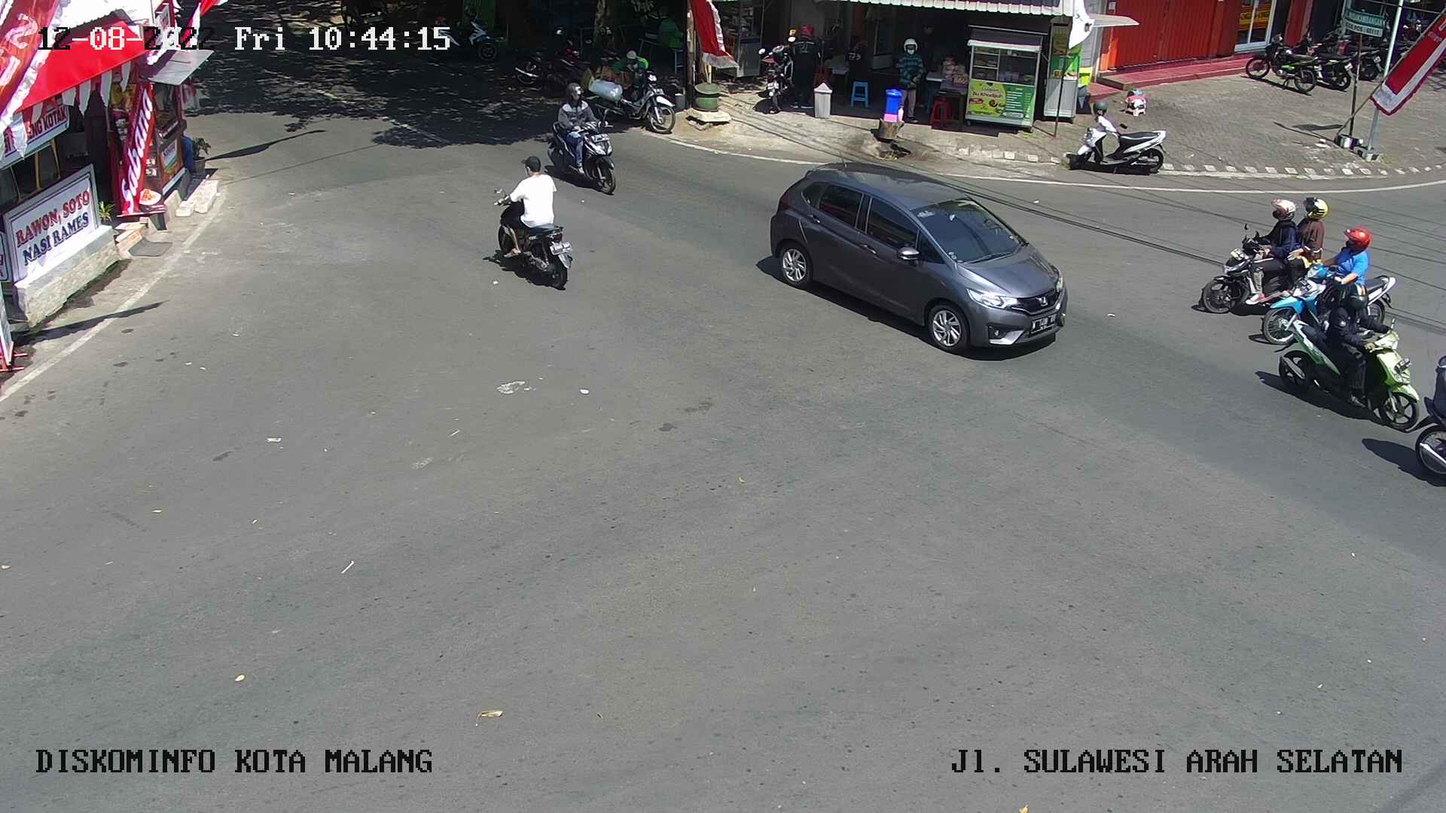with_helmet: (1277, 287, 1422, 439), (1258, 227, 1402, 352), (1197, 191, 1320, 298), (537, 82, 620, 202)
without_helmet: (487, 151, 578, 297)
